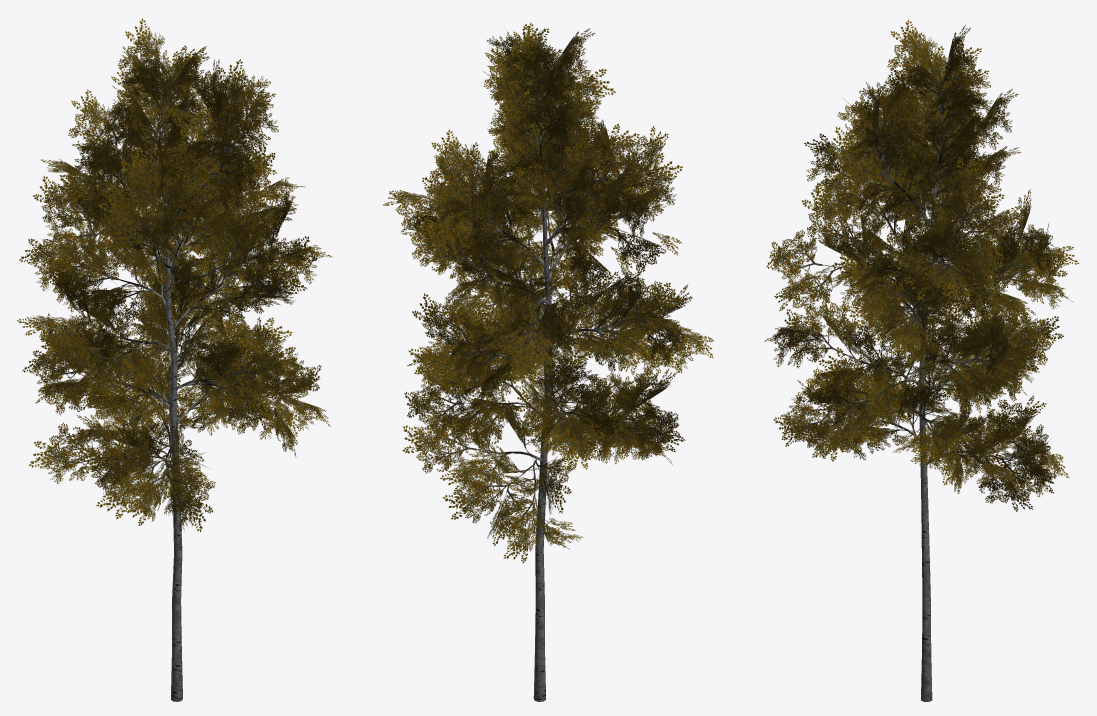
File: birch_autumn.glb
3 renders of one model, left to right at view 1: azimuth 30°, elevation 25°; view 2: azimuth 150°, elevation 25°; view 3: azimuth 270°, elevation 25°, orthographic. The views are drawn at different scales.
Parts seen in each view (by area): view 1: Object_61; view 2: Object_61; view 3: Object_61.
Part boxes in pixels (bbox=[...]): Object_61: bbox=[17, 18, 332, 701]; Object_61: bbox=[383, 22, 713, 701]; Object_61: bbox=[764, 19, 1079, 701].
Size of the model in its own units: 8.95 by 18.95 by 8.39.
Materials: 2 (2 with a texture image).
